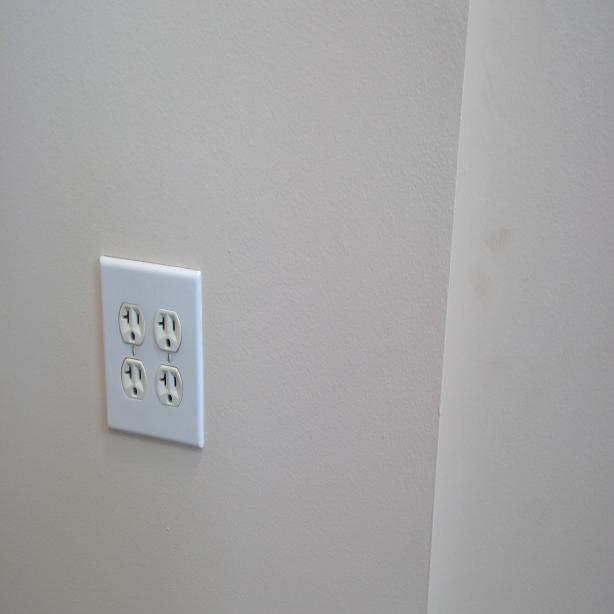typeb: (118, 301, 146, 344), (156, 366, 184, 408), (119, 361, 147, 400), (155, 309, 181, 351)
